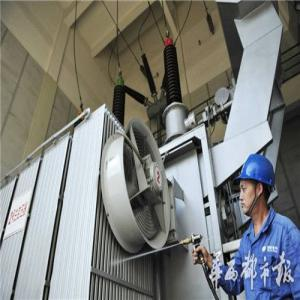blue: (240, 154, 277, 218)
